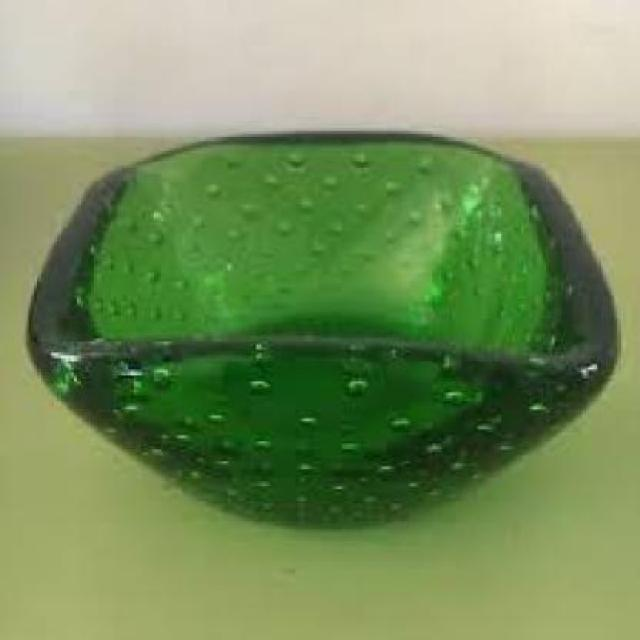GLASS: (22, 125, 618, 526)
